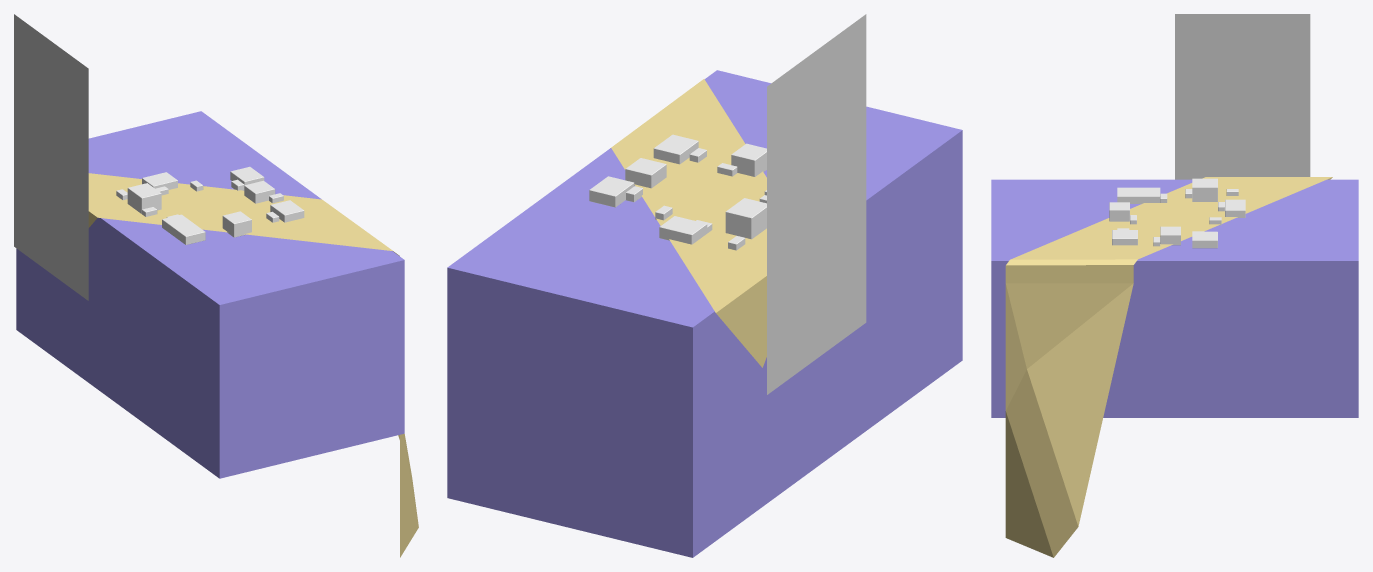
Rendered from pageLayout-03.glb.
The picture shows the model from 3 angles, left to right: view 1: azimuth 30°, elevation 25°; view 2: azimuth 150°, elevation 25°; view 3: azimuth 270°, elevation 25°; orthographic projection. The views are drawn at different scales.
Parts seen in each view (by area): view 1: deskPlane, pictureFrame, papperPlane, neighboar_002, neighboar_005, neighboar_003, neighboar_010, neighboar_012; view 2: deskPlane, pictureFrame, papperPlane, neighboar_005, neighboar_001, neighboar_015, neighboar_012, neighboar_003, neighboar_010; view 3: deskPlane, papperPlane, pictureFrame, neighboar_002, neighboar_005, neighboar_015.
Part boxes in pixels (x1,y1,x2,y2): deskPlane: (16,111,404,478); pictureFrame: (14,14,88,300); papperPlane: (88,173,418,557); neighboar_002: (162,214,205,244); neighboar_005: (127,183,161,213); neighboar_003: (222,211,251,237); neighboar_010: (270,200,304,222); neighboar_012: (244,180,275,203); deskPlane: (447,70,962,557); pictureFrame: (767,14,866,394); papperPlane: (611,79,766,367); neighboar_005: (725,198,766,239); neighboar_001: (659,216,707,244); neighboar_015: (589,176,634,207); neighboar_012: (625,158,666,188); neighboar_003: (731,143,766,176); neighboar_010: (653,134,698,164); deskPlane: (991,179,1358,417); papperPlane: (1005,177,1332,557); pictureFrame: (1175,14,1310,179); neighboar_002: (1117,187,1160,203); neighboar_005: (1192,178,1217,201); neighboar_015: (1192,231,1217,248).
Bounding box in the file's own units: 163 × 273 × 212.
